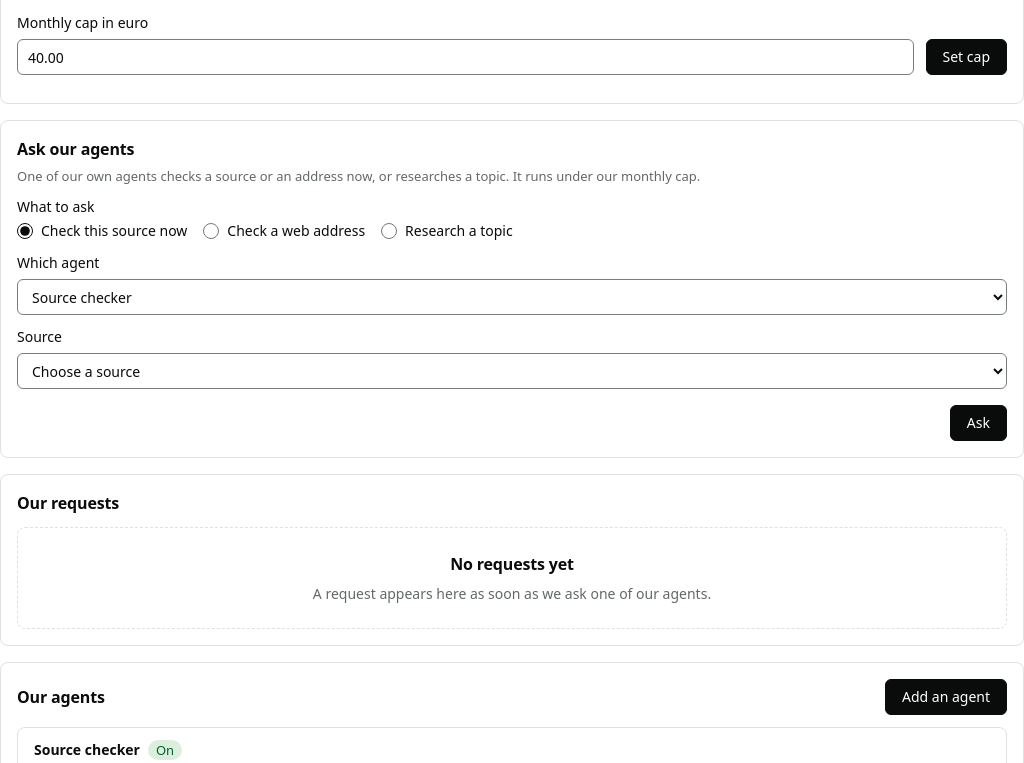
research requests › renders plan_limit_reached from its code
(page scrolled)
expect the element that starts with "Ask our agents" is shown: met, box [0,120,1023,458]
Select "Finansinspektionen news" in the dropdown labelled "Source" at (512, 371), box [17,353,1007,389]
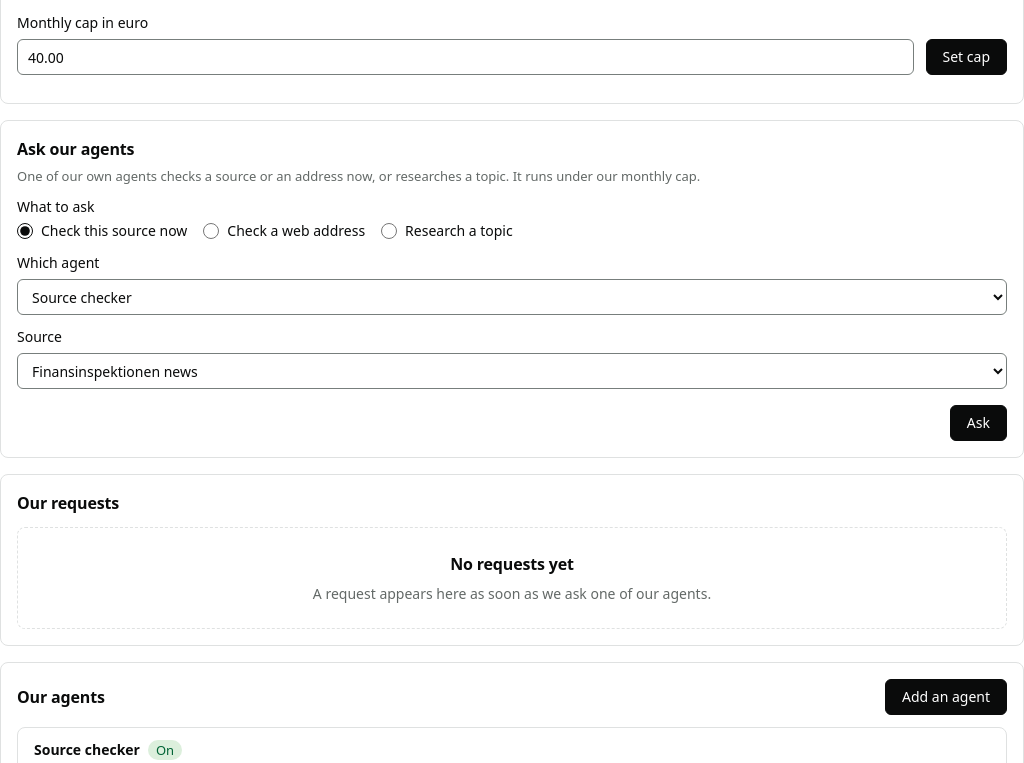
Click the button "Ask".
click(978, 423)  # box [950,405,1007,441]
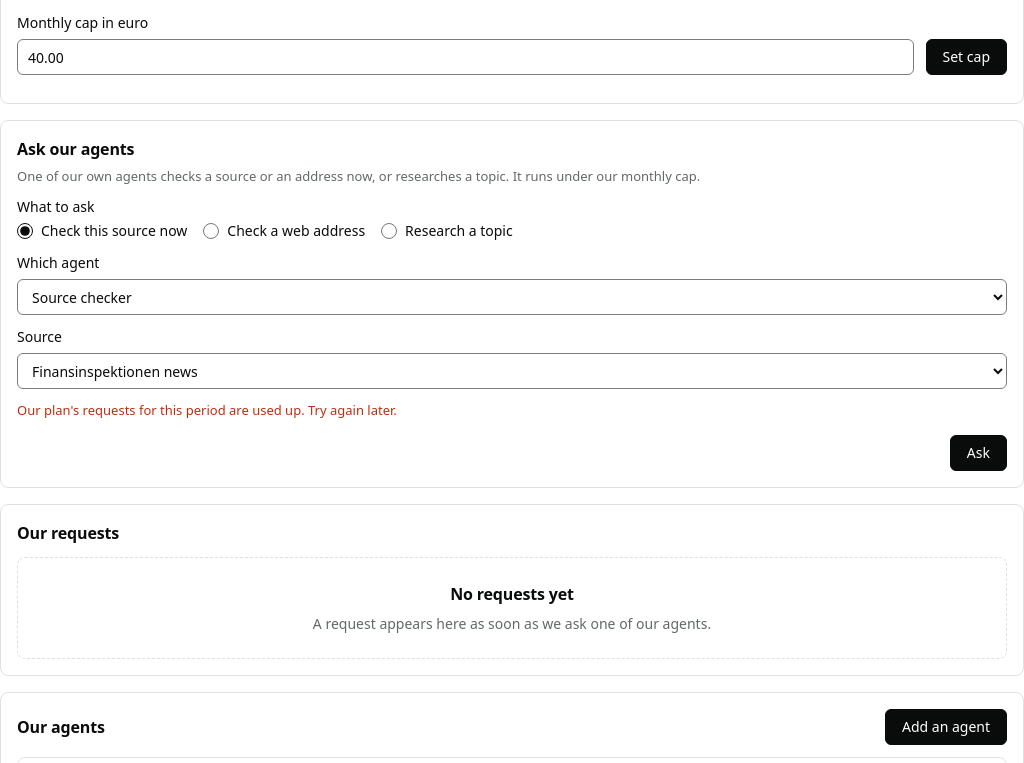
expect the text "Our plan's requests for this period are used up. Try again later." is shown: met, box [17,401,397,419]
